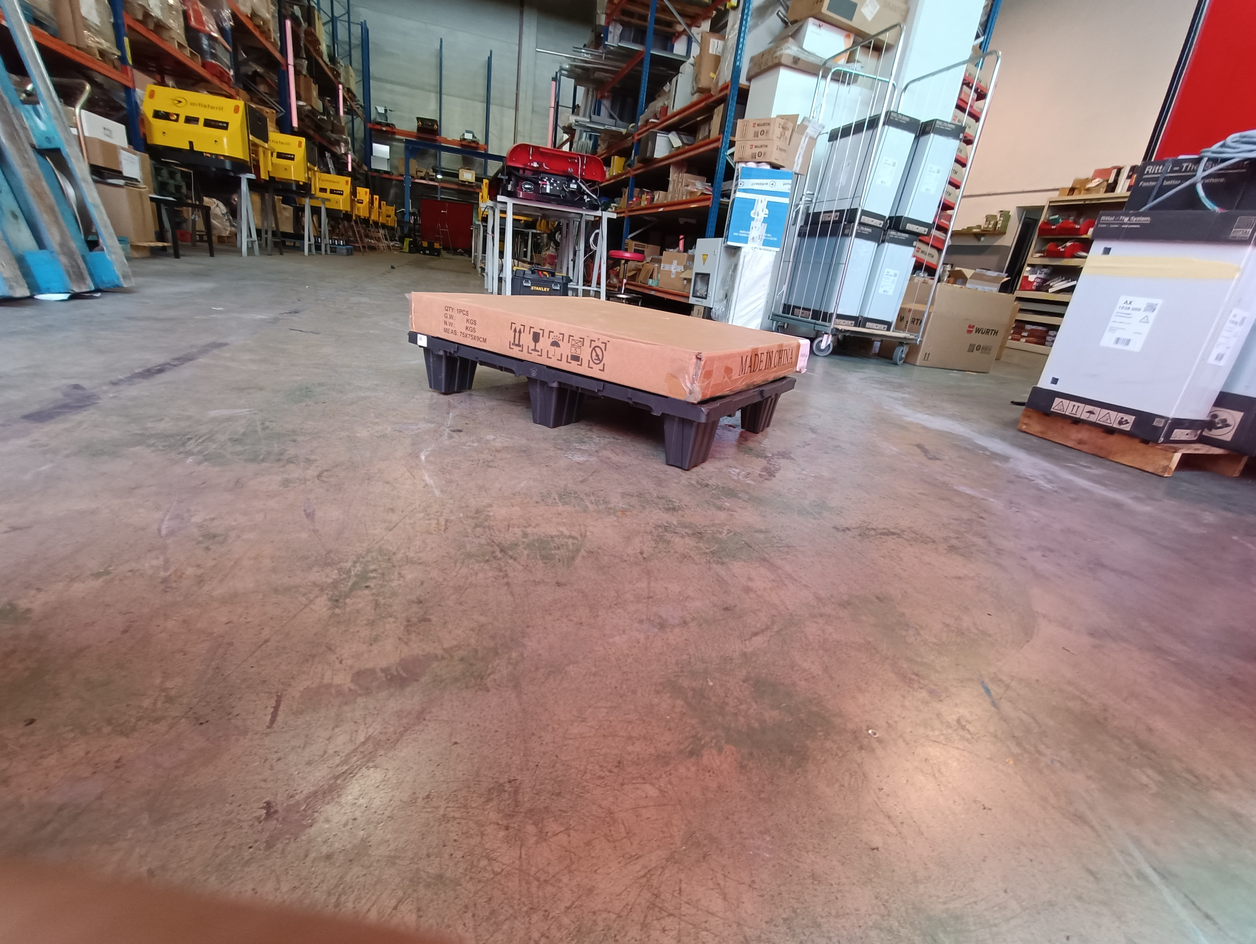block: (414, 341, 478, 399), (657, 403, 715, 467), (523, 378, 581, 435)
front: (409, 334, 711, 485)
hole pallet: (568, 389, 665, 462), (455, 351, 533, 418)
